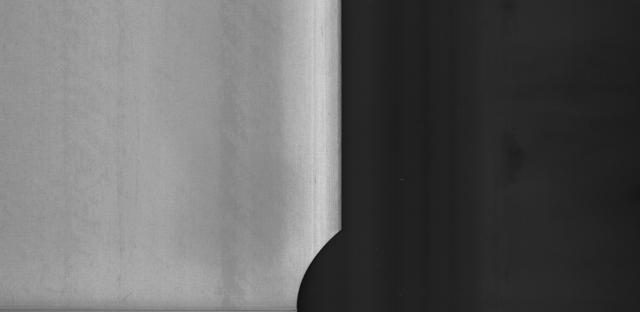crescent_gap: (277, 224, 365, 312)
